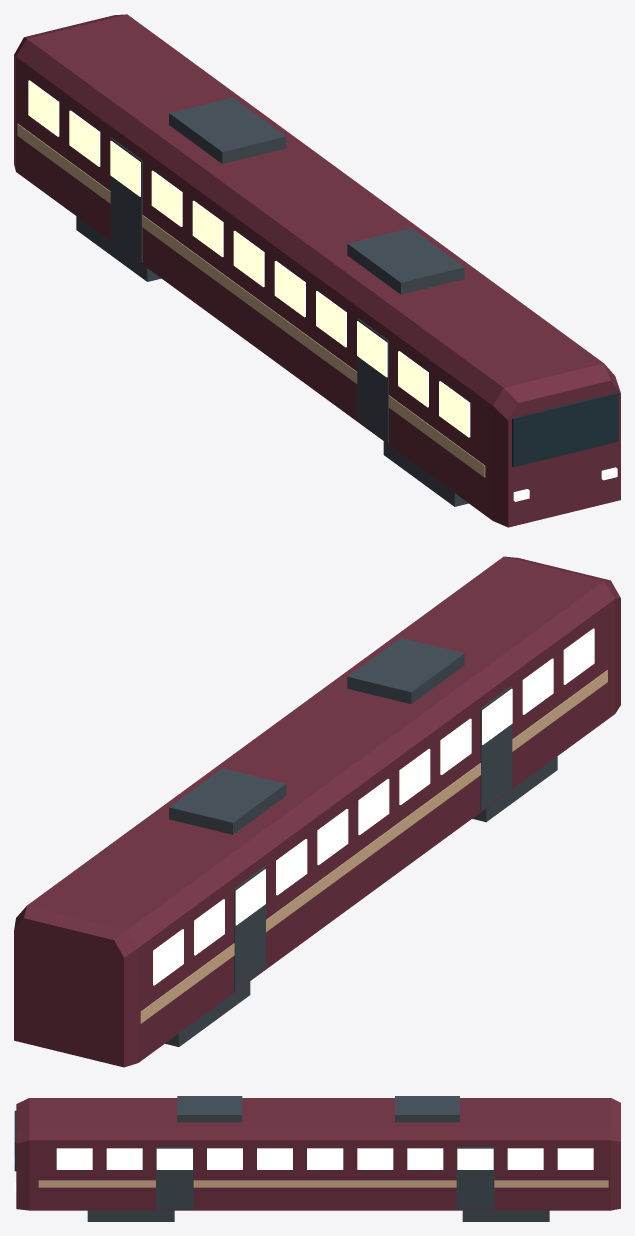
The model's file is private-cab.glb.
3 renders of one model, top to bottom at view 1: azimuth 30°, elevation 25°; view 2: azimuth 150°, elevation 25°; view 3: azimuth 270°, elevation 25°, orthographic. The views are drawn at different scales.
Size of the model in its own units: 2.87 by 3.6 by 19.57.
